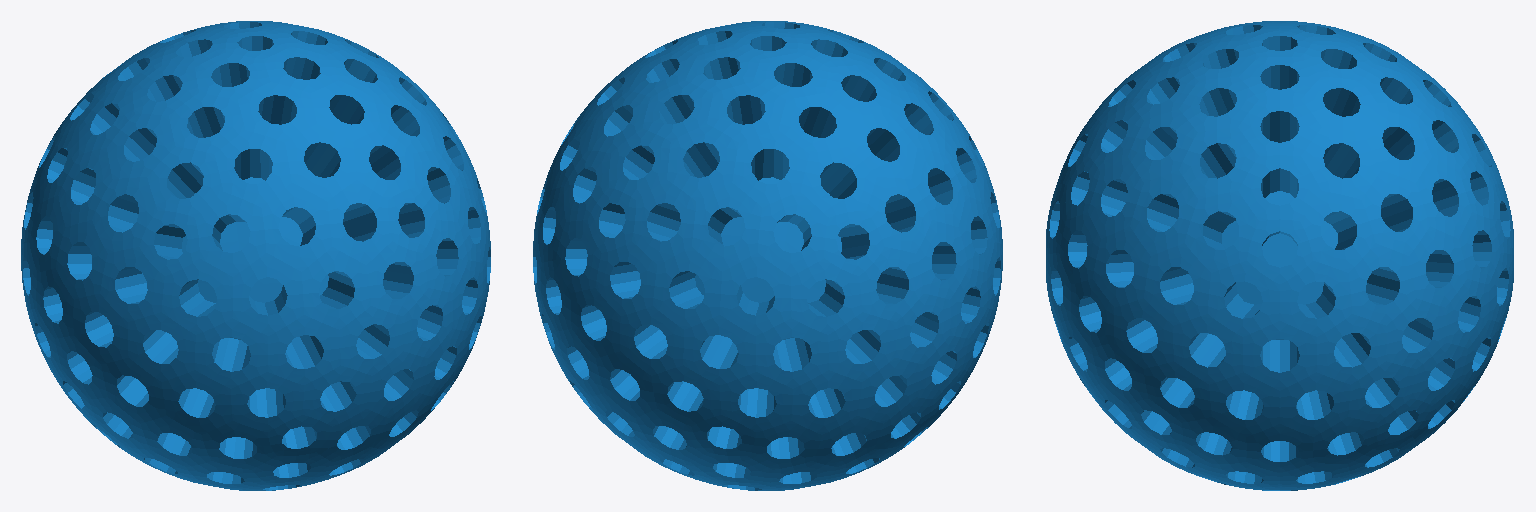
Rendered from nucleus1.obj.
3 renders of one model, left to right at view 1: azimuth 30°, elevation 25°; view 2: azimuth 150°, elevation 25°; view 3: azimuth 270°, elevation 25°, orthographic.
Parts seen in each view (by area): view 1: nucleus1; view 2: nucleus1; view 3: nucleus1.
Boxes of the visible parts, x1,y1,x2,y2 form: nucleus1: [21, 21, 490, 490]; nucleus1: [533, 21, 1002, 490]; nucleus1: [1046, 21, 1513, 490].
Bounding box in the file's own units: 365 × 366 × 365.